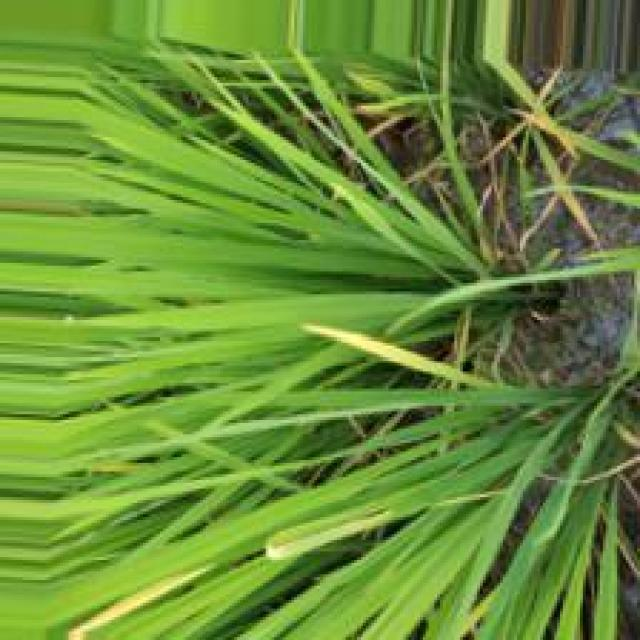HealthyLeaf: (44, 228, 325, 270), (220, 293, 380, 330), (151, 138, 238, 187)
